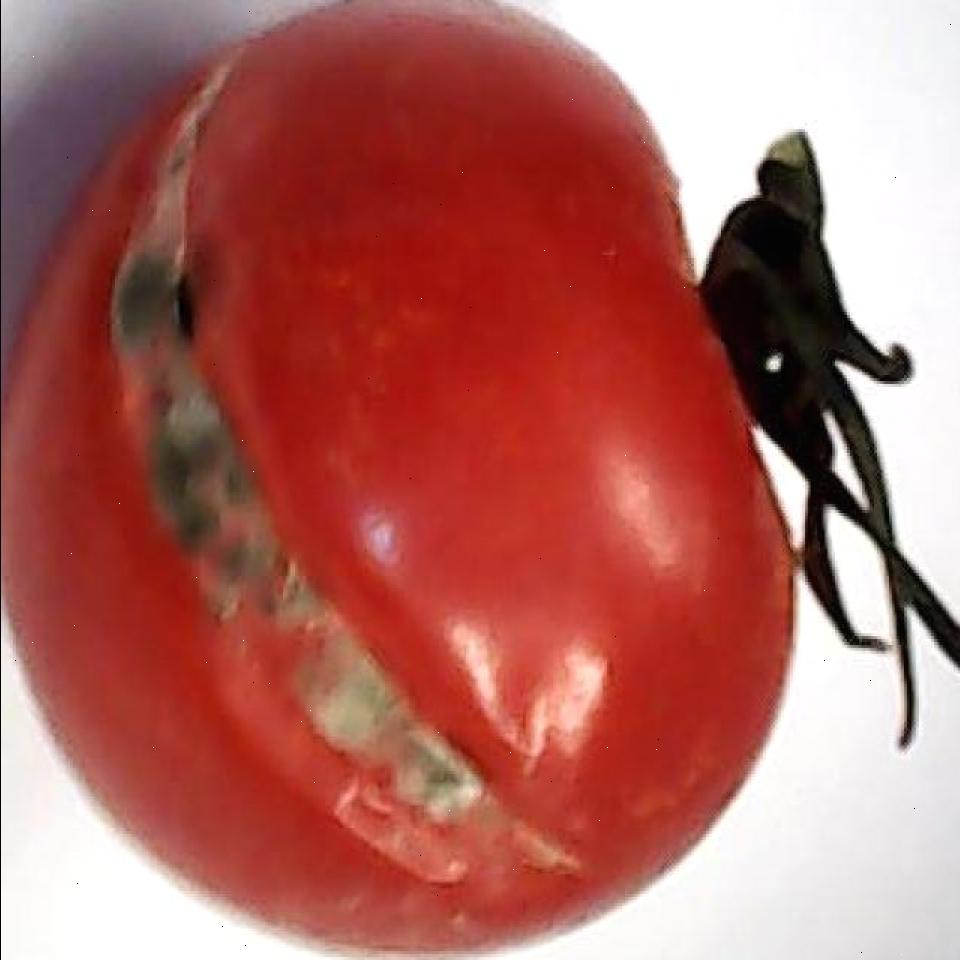Cracking: (91, 29, 575, 894)
